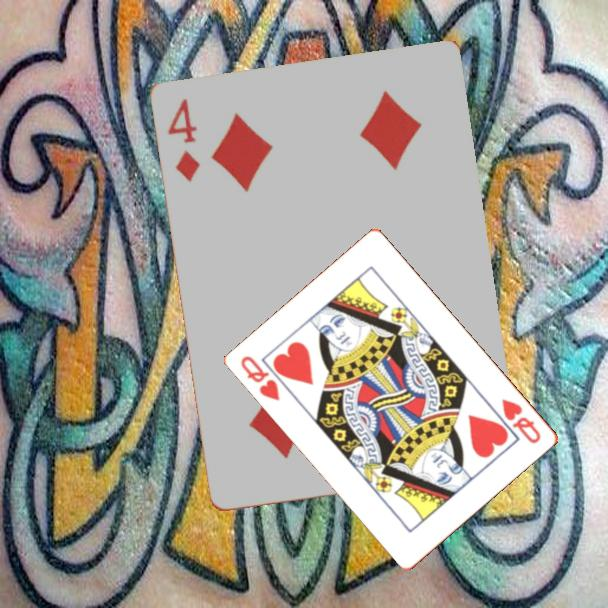d04: (165, 95, 203, 185)
h12: (498, 395, 544, 447), (237, 352, 283, 404)
